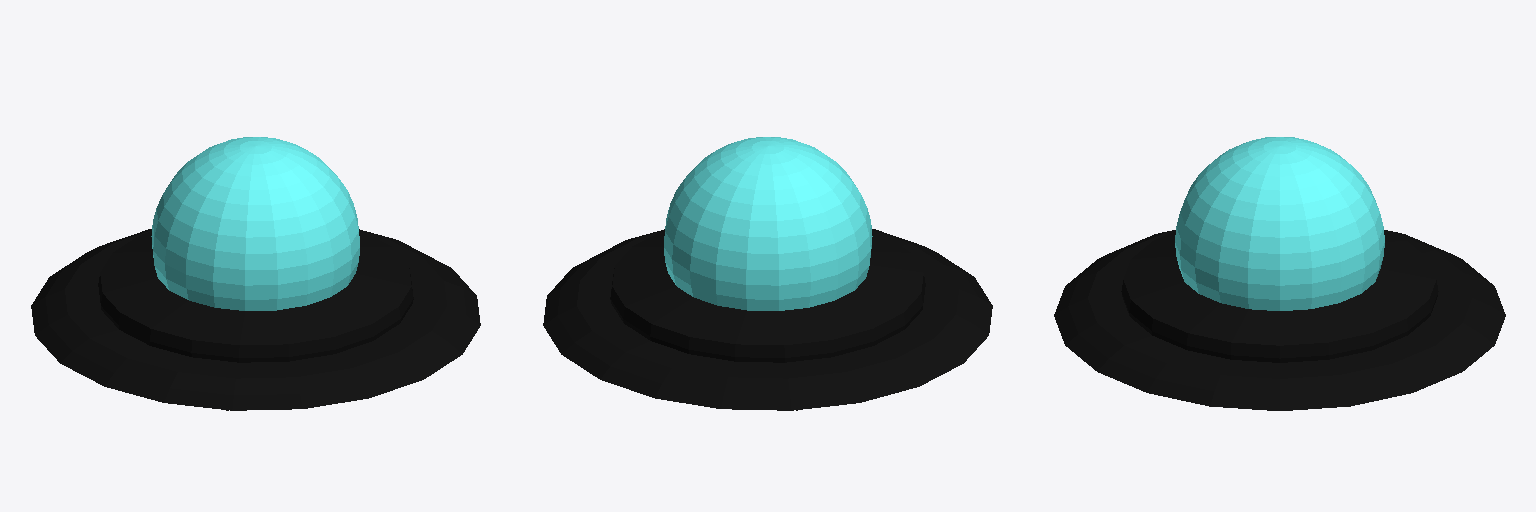
The model's file is AIUFO.obj.
3 renders of one model, left to right at view 1: azimuth 30°, elevation 25°; view 2: azimuth 150°, elevation 25°; view 3: azimuth 270°, elevation 25°, orthographic.
Visible parts, largest first — view 1: Body; view 2: Body; view 3: Body.
Part boxes in pixels (x1,y1,x2,y2): Body: (31,137,480,410); Body: (543,137,992,410); Body: (1054,137,1505,410).
Bounding box in the file's own units: 2.35 × 1.26 × 2.35.